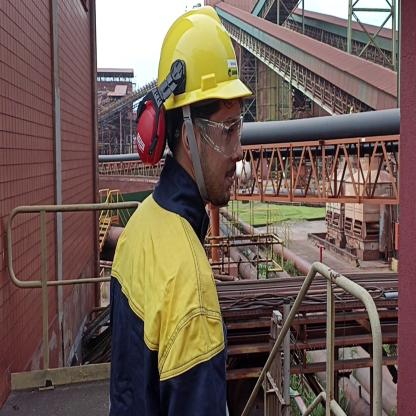C_eletrica: (105, 199, 231, 416)
Capacete: (154, 4, 252, 101)
